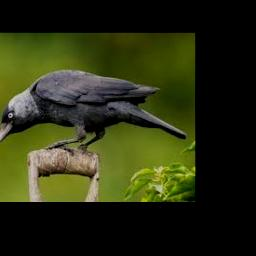Crow: (0, 69, 189, 155)
